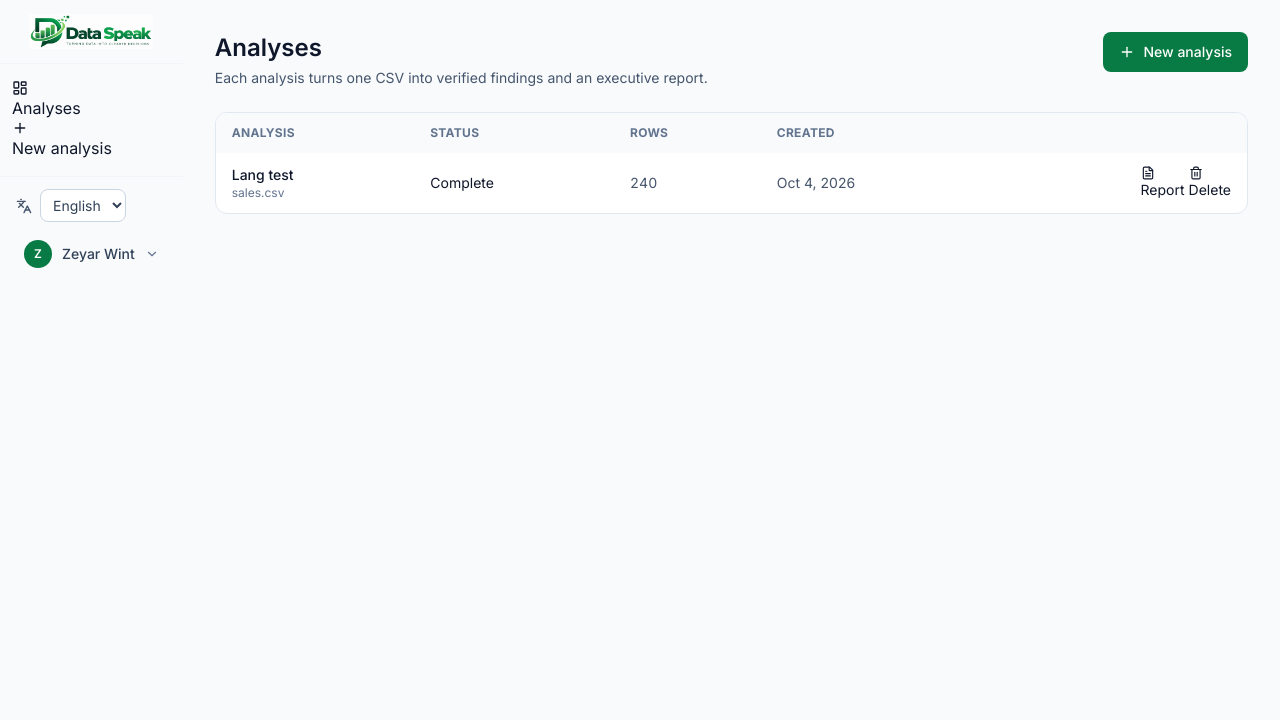
Test: interface languages › switches the whole interface from the sidebar
Check: the heading "Analyses" is shown, box [215,33,322,62]
Select "中文" in the dropdown named "Language" at (83, 206), box [40,189,126,222]
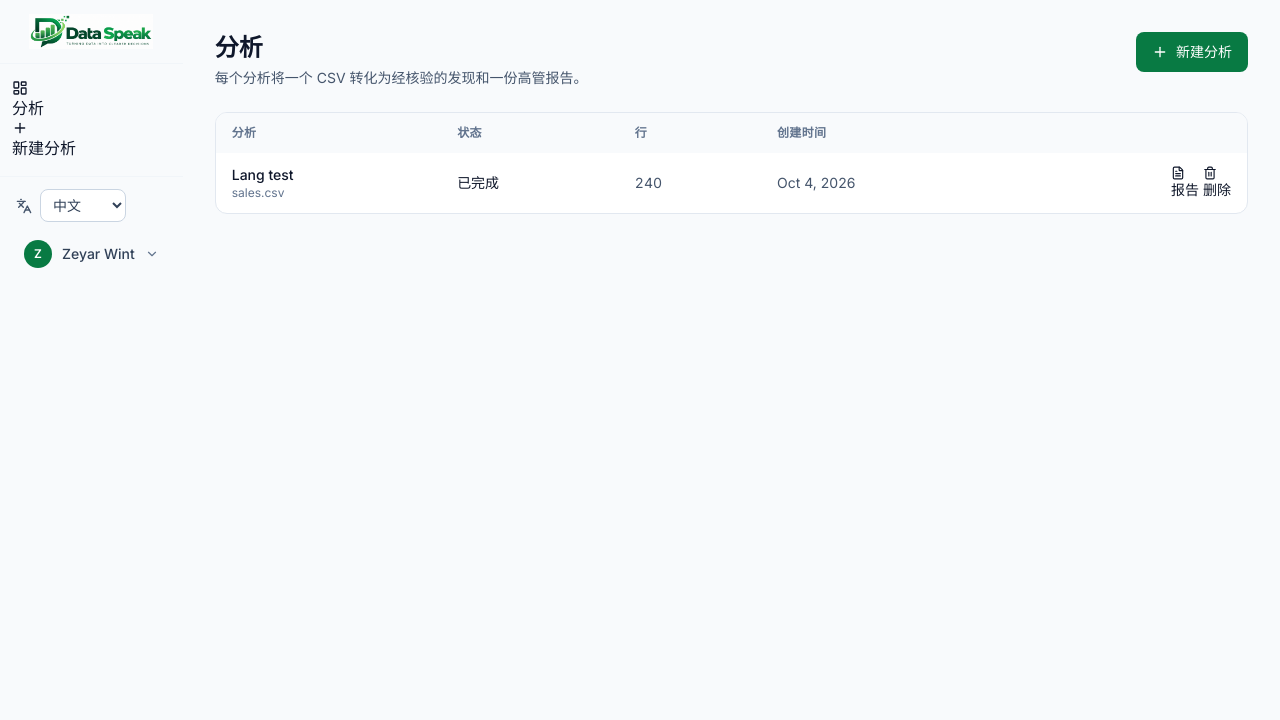
Check: the heading "分析" is shown, box [215,33,263,62]
Check: the 2nd link "新建分析" is shown, box [12,120,76,158]
Select "English" in the dropdown named "语言" at (83, 206), box [40,189,126,222]
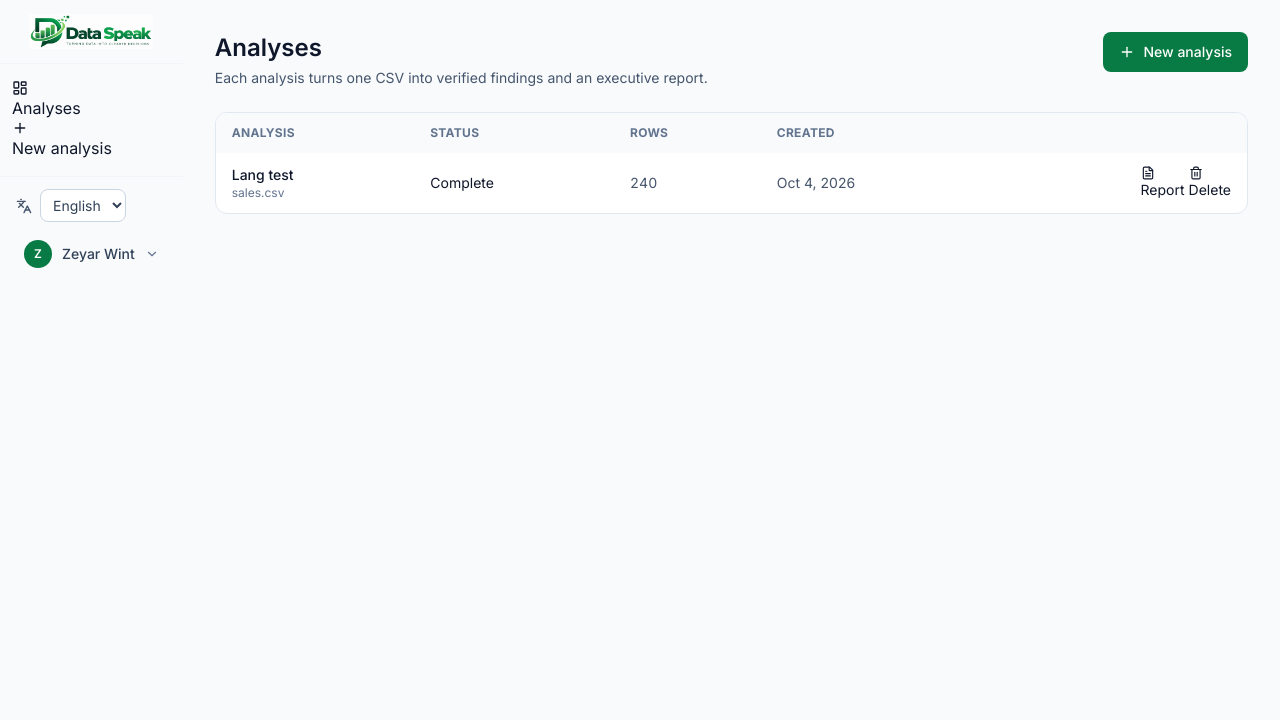
Check: the heading "Analyses" is shown, box [215,33,322,62]
